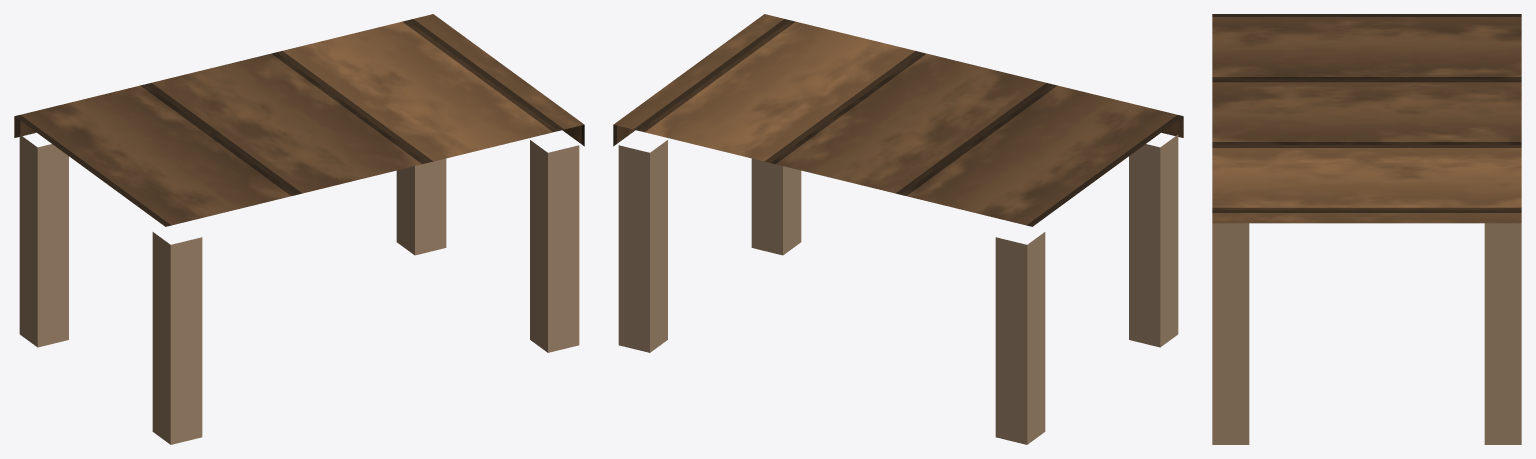
The model's file is prop_table.glb.
3 renders of one model, left to right at view 1: azimuth 30°, elevation 25°; view 2: azimuth 150°, elevation 25°; view 3: azimuth 270°, elevation 25°, orthographic. The views are drawn at different scales.
Visible parts, largest first — view 1: prop; view 2: prop; view 3: prop.
Boxes of the visible parts, bbox=[...] form: prop: bbox=[14, 14, 584, 444]; prop: bbox=[613, 14, 1183, 444]; prop: bbox=[1212, 14, 1521, 444].
Bounding box in the file's own units: 1.6 × 0.8 × 1.
Materials: 5 (1 with a texture image).
